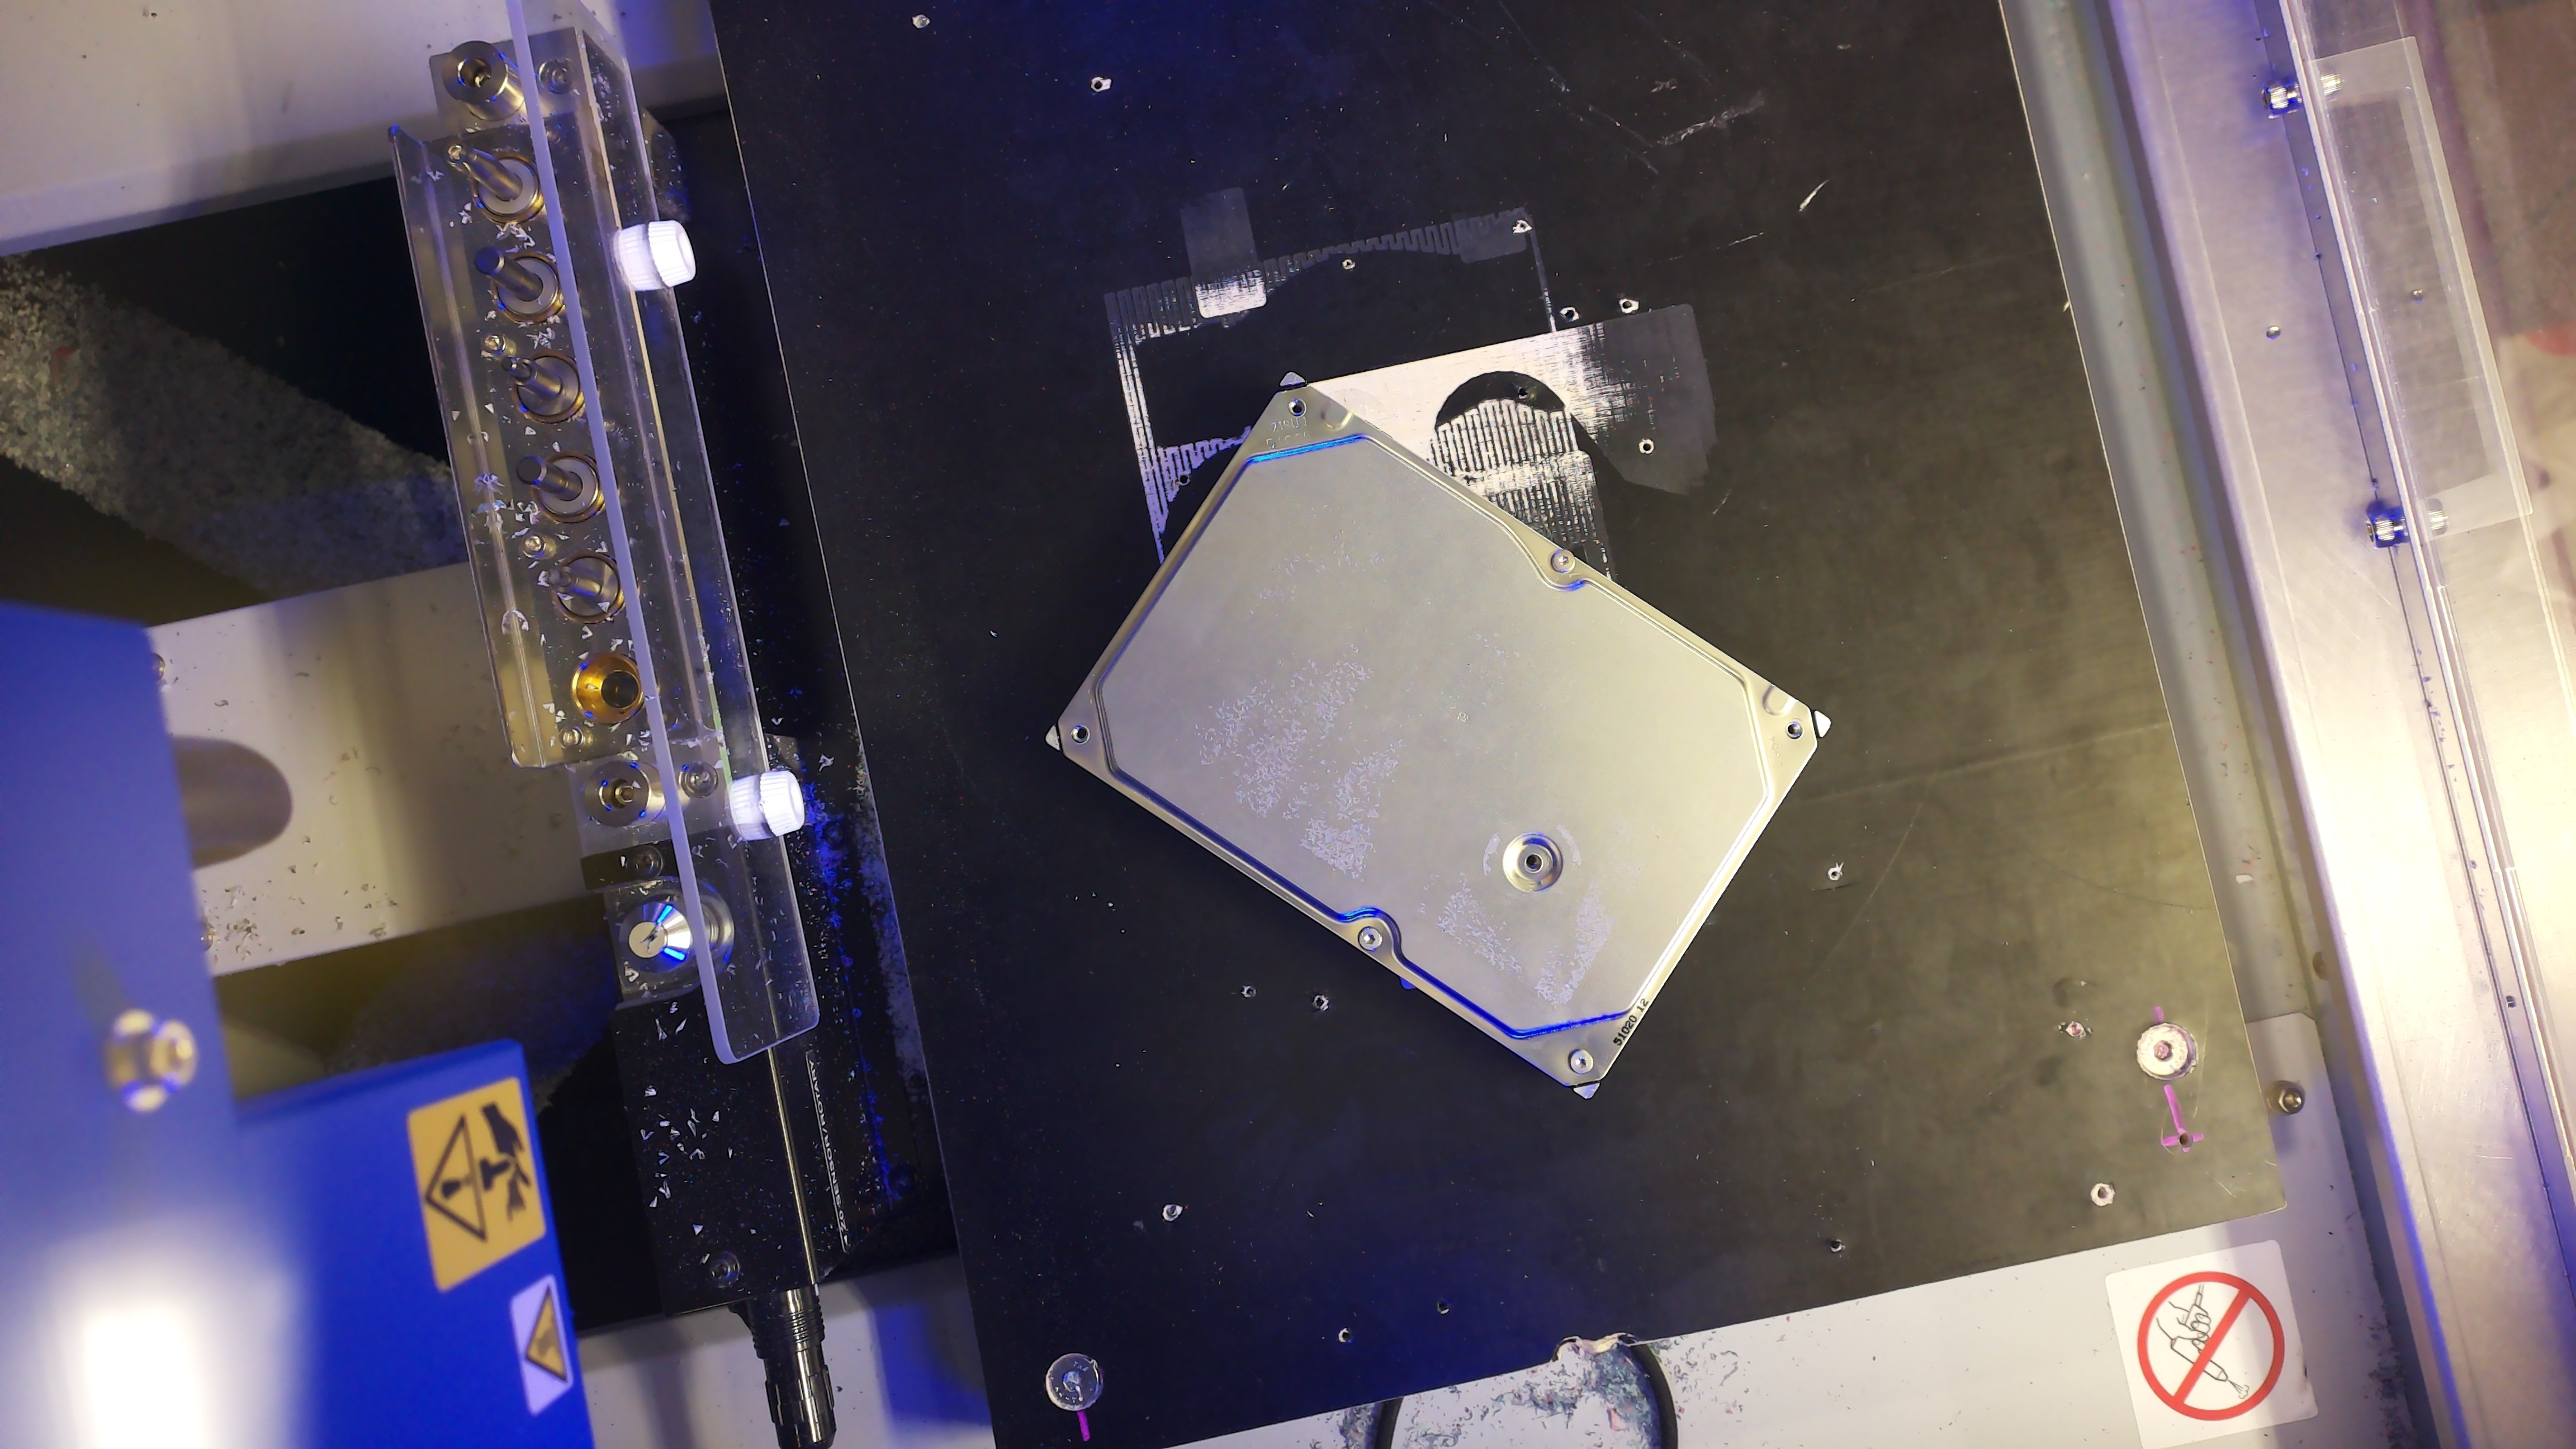Hole: (1785, 718, 1805, 741), (1523, 853, 1543, 872), (1288, 398, 1307, 418), (1070, 724, 1090, 743)
Screw: (1550, 548, 1575, 573), (1569, 1049, 1594, 1074), (1359, 925, 1382, 950)
